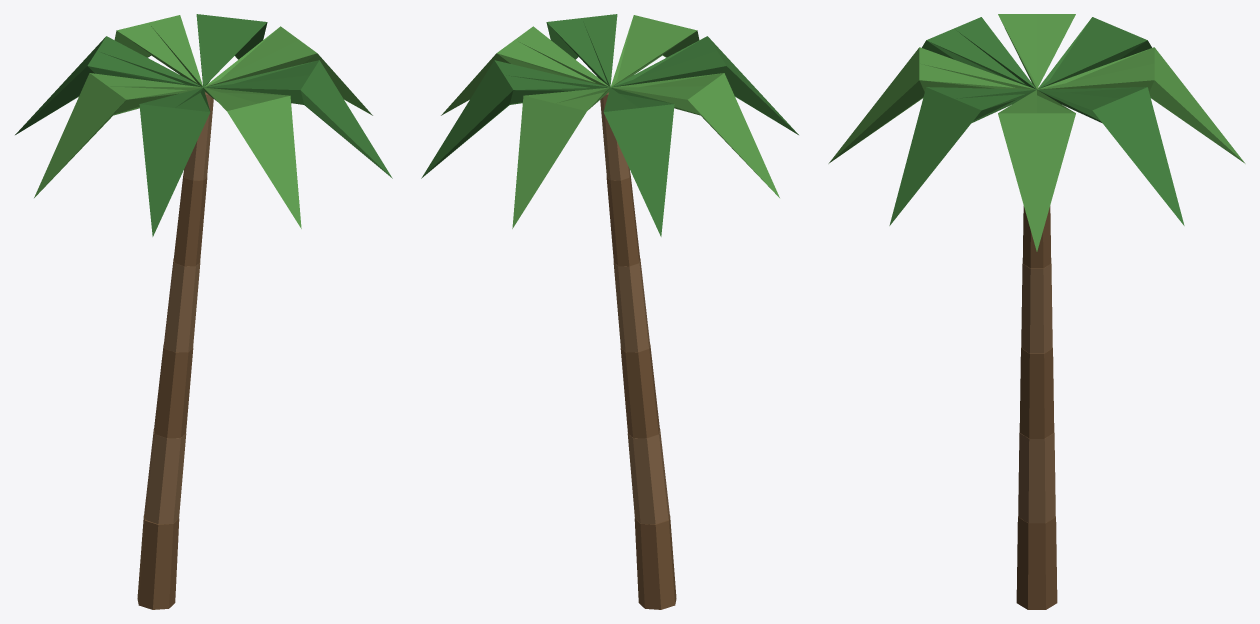
Rendered from tree_palm.glb.
3 views of the same model, side by side, from view 1: azimuth 30°, elevation 25°; view 2: azimuth 150°, elevation 25°; view 3: azimuth 270°, elevation 25° (orthographic). The views are drawn at different scales.
Visible parts, largest first — view 1: tree_palm; view 2: tree_palm; view 3: tree_palm.
Part boxes in pixels (x1=…): tree_palm: x1=15, y1=14, x2=392, y2=609; tree_palm: x1=421, y1=14, x2=798, y2=609; tree_palm: x1=828, y1=14, x2=1245, y2=609.
Size of the model in its own units: 3.2 by 4.76 by 3.2.
